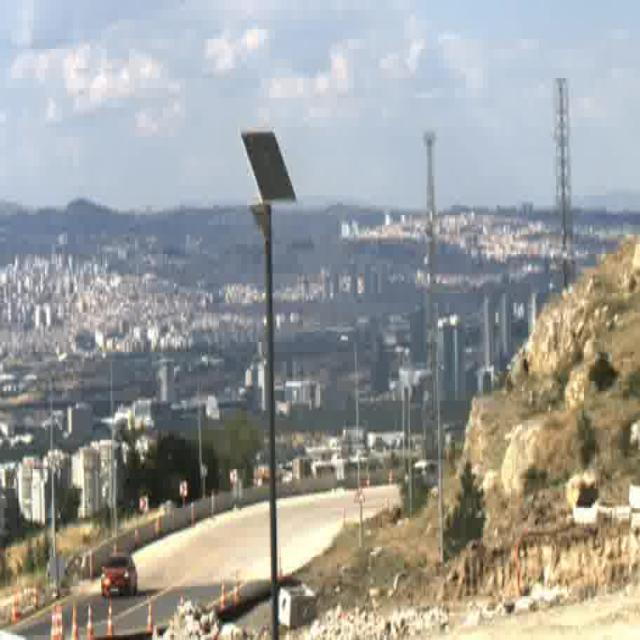Car: (100, 554, 137, 598), (403, 460, 437, 491)
